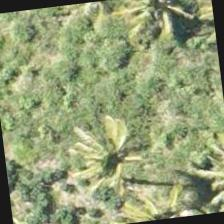Kelapa_Sawit: (55, 103, 155, 203), (111, 0, 208, 58), (106, 168, 202, 223)
